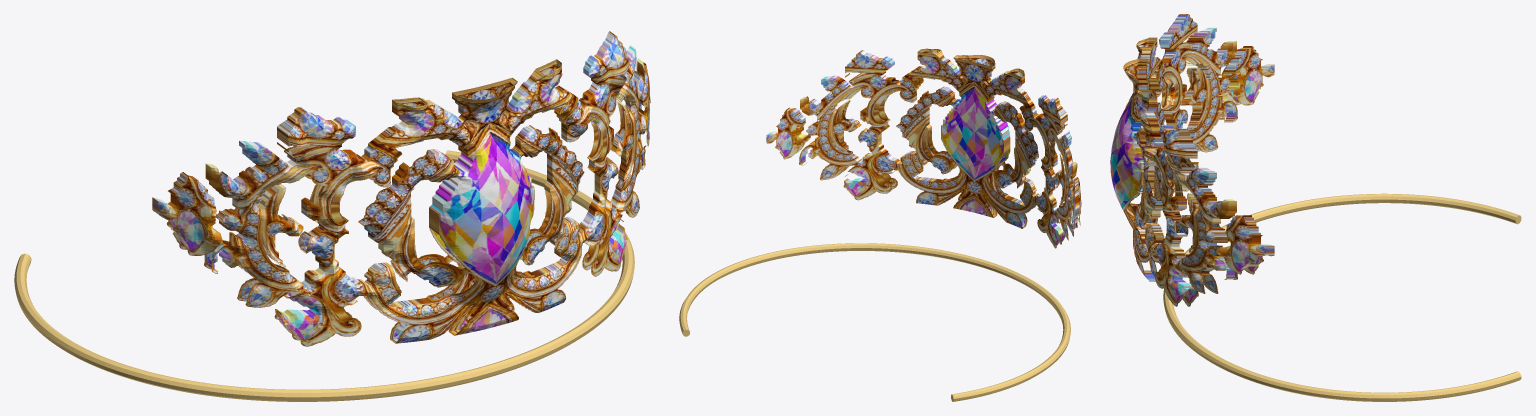
File: spaktok-owner-crown-mobile.glb
3 renders of one model, left to right at view 1: azimuth 30°, elevation 25°; view 2: azimuth 150°, elevation 25°; view 3: azimuth 270°, elevation 25°, orthographic. The views are drawn at different scales.
Parts seen in each view (by area): view 1: Tiara_Front_Relief_3D, Headband_Real_Curved_3D; view 2: Tiara_Front_Relief_3D, Headband_Real_Curved_3D; view 3: Tiara_Front_Relief_3D, Headband_Real_Curved_3D.
Boxes of the visible parts, x1,y1,x2,y2 form: Tiara_Front_Relief_3D: (152, 31, 650, 346); Headband_Real_Curved_3D: (14, 150, 634, 401); Tiara_Front_Relief_3D: (766, 48, 1081, 248); Headband_Real_Curved_3D: (679, 243, 1070, 401); Tiara_Front_Relief_3D: (1110, 14, 1274, 306); Headband_Real_Curved_3D: (1163, 193, 1521, 401).
Size of the model in its own units: 0.2529 by 0.1669 by 0.2166.
2 materials, 1 textured.
